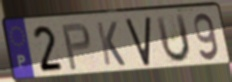2: (32, 24, 66, 74)
9: (192, 11, 220, 63)
K: (95, 20, 128, 68)
P: (60, 21, 93, 73)
U: (154, 12, 192, 65)
V: (124, 14, 152, 68)
